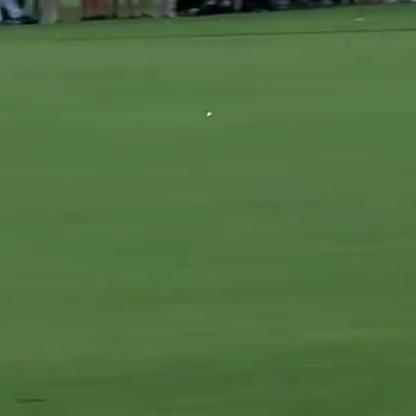golfball: (204, 110, 211, 115)
